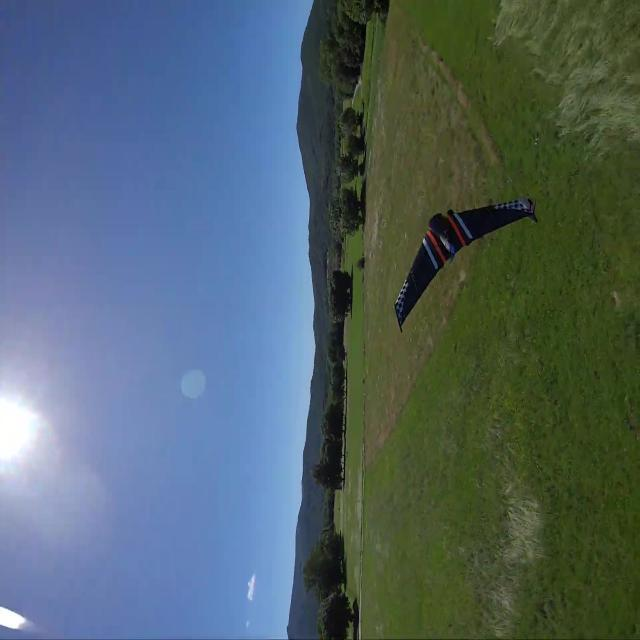iha: (362, 183, 537, 332)
